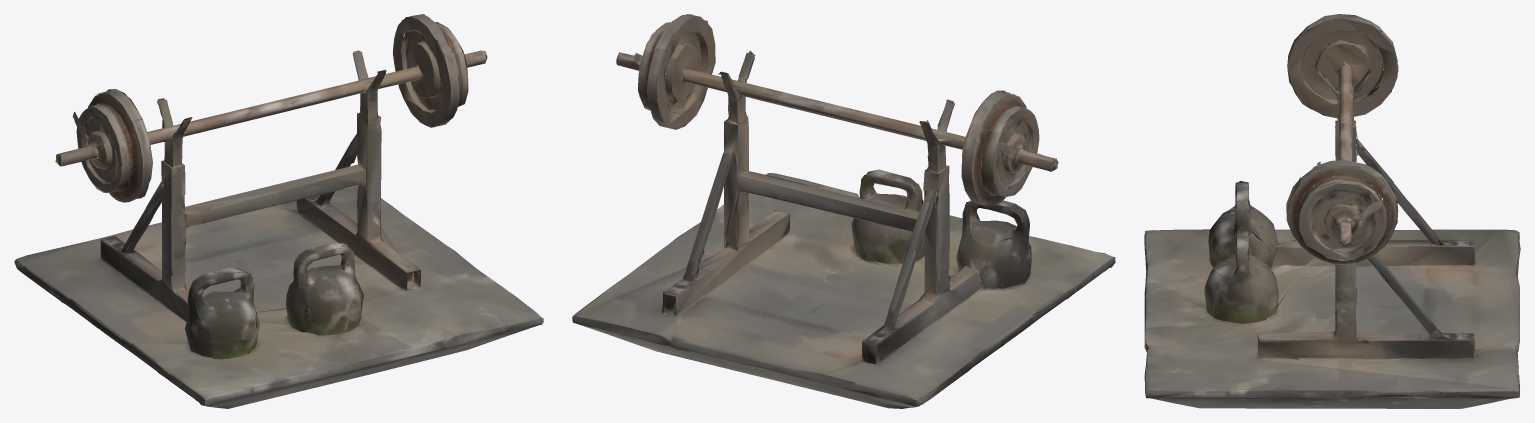
File: basement_gym.glb
The picture shows the model from 3 angles, left to right: view 1: azimuth 30°, elevation 25°; view 2: azimuth 150°, elevation 25°; view 3: azimuth 270°, elevation 25°; orthographic projection. The views are drawn at different scales.
Parts seen in each view (by area): view 1: lair_gym; view 2: lair_gym; view 3: lair_gym.
Boxes of the visible parts, x1=… form: lair_gym: x1=14, y1=14, x2=543, y2=408; lair_gym: x1=572, y1=14, x2=1115, y2=408; lair_gym: x1=1144, y1=14, x2=1520, y2=408.
Size of the model in its own units: 1.8 by 1.09 by 1.41.
Materials: 1 (1 with a texture image).
